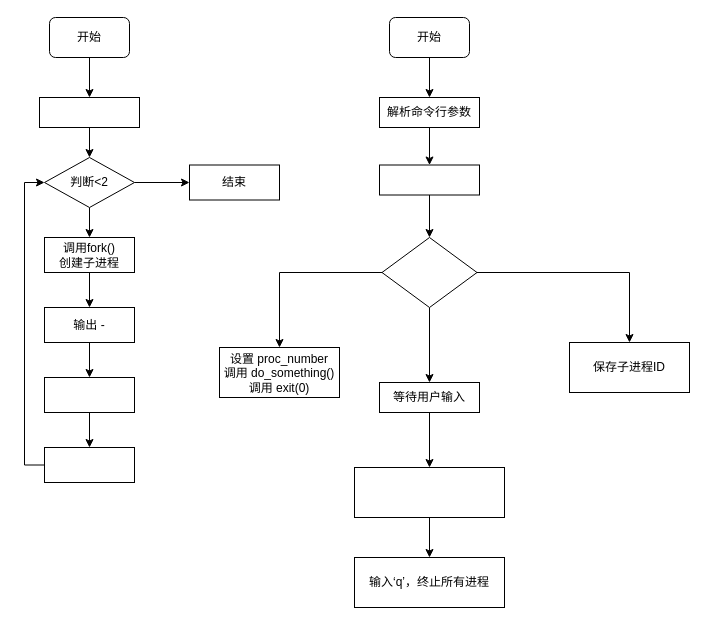
Image size: 707x625. Some labels were removed from this diagram. The shapes that lost their labels are listed below. From the top down, each one's centre as x and y in pixels, then its label:
point 89,112: 初始化循环变量
point 429,179: 创建子进程
point 429,272: 判断是否是child_pid
point 89,394: 循环变量增加
point 89,464: 子进程结束
point 429,492: 输入数字 发送SIGTERM信号给对应子进程
